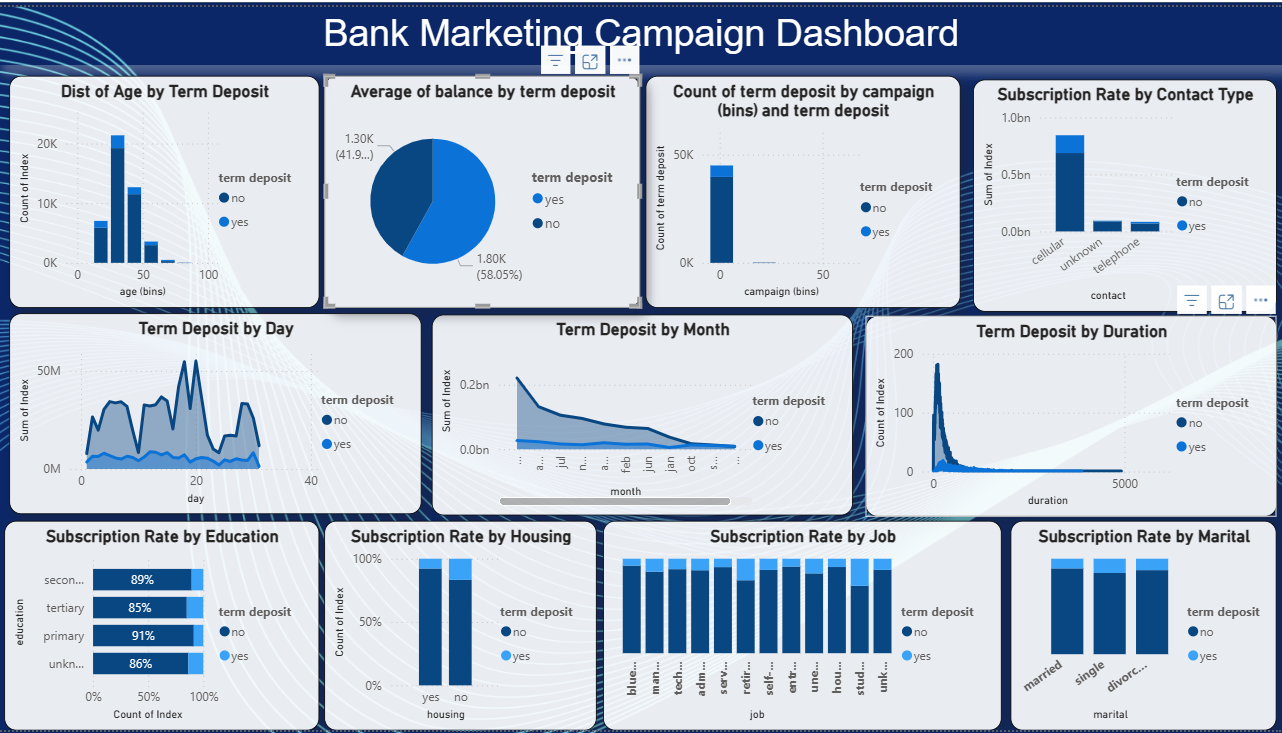

The page's visual inventory and layout, read from the dashboard file:
{"tool":"powerbi","page":{"name":"Page 1","canvas":[1280,720],"ordinal":0},"visuals":[{"type":"textbox","box":[0,0,1280.3,57.5],"z":0},{"type":"columnChart","title":"Dist of Age by Term Deposit","fields":{"Y":["CountNonNull(Bank Marketing.Index)"],"Category":["Bank Marketing.age (bins)"],"Series":["Bank Marketing.term deposit"]},"box":[11.2,68.4,308.6,231.4],"z":1000},{"type":"pieChart","fields":{"Category":["Bank Marketing.term deposit"],"Y":["Avg(Bank Marketing.balance)"]},"box":[324.7,68.4,314.8,231.4],"z":2000},{"type":"columnChart","fields":{"Category":["Bank Marketing.campaign (bins)"],"Y":["CountNonNull(Bank Marketing.term deposit)"],"Series":["Bank Marketing.term deposit"]},"box":[644.5,68.4,313.5,231.4],"z":3000},{"type":"columnChart","title":"Subscription Rate by Contact Type","fields":{"Series":["Bank Marketing.term deposit"],"Category":["Bank Marketing.contact"],"Y":["Sum(Bank Marketing.Index)"]},"box":[970.5,72.2,302.3,231.4],"z":4000},{"type":"areaChart","title":"Term Deposit by Day","fields":{"Category":["Bank Marketing.day"],"Y":["Sum(Bank Marketing.Index)"],"Series":["Bank Marketing.term deposit"]},"box":[11.2,304.8,410.6,200.3],"z":5000},{"type":"areaChart","title":"Term Deposit by Month","fields":{"Y":["Sum(Bank Marketing.Index)"],"Series":["Bank Marketing.term deposit"],"Category":["Bank Marketing.month"]},"box":[431.7,306.1,419.3,200.3],"z":6000},{"type":"areaChart","title":"Term Deposit by Duration","fields":{"Y":["CountNonNull(Bank Marketing.Index)"],"Series":["Bank Marketing.term deposit"],"Category":["Bank Marketing.duration"]},"box":[863.5,307.3,409.3,200.3],"z":7000},{"type":"hundredPercentStackedBarChart","title":"Subscription Rate by Education","fields":{"Category":["Bank Marketing.education"],"Series":["Bank Marketing.term deposit"],"Y":["CountNonNull(Bank Marketing.Index)"]},"box":[6.2,511,313.5,209],"z":8000},{"type":"hundredPercentStackedColumnChart","title":"Subscription Rate by Housing","fields":{"Category":["Bank Marketing.housing"],"Series":["Bank Marketing.term deposit"],"Y":["CountNonNull(Bank Marketing.Index)"]},"box":[324.7,511,271.2,209],"z":9000},{"type":"hundredPercentStackedColumnChart","title":"Subscription Rate by Job","fields":{"Series":["Bank Marketing.term deposit"],"Y":["CountNonNull(Bank Marketing.Index)"],"Category":["Bank Marketing.job"]},"box":[602.2,511,396.9,209],"z":10000},{"type":"hundredPercentStackedColumnChart","title":"Subscription Rate by Marital","fields":{"Series":["Bank Marketing.term deposit"],"Y":["CountNonNull(Bank Marketing.Index)"],"Category":["Bank Marketing.marital"]},"box":[1007.8,511,265,209],"z":11000}]}

Visuals, with their boxes in screenshot pixels (x1, y1, x2, y2), scaled from the page's 1280x720 canvas onto the 1282x733 screenshot:
textbox: [left=0, top=0, right=1281, bottom=59]
"Dist of Age by Term Deposit" columnChart: [left=11, top=70, right=320, bottom=305]
pieChart - Bank Marketing.term deposit x Avg(Bank Marketing.balance): [left=325, top=70, right=640, bottom=305]
columnChart - Bank Marketing.campaign (bins) x CountNonNull(Bank Marketing.term deposit): [left=646, top=70, right=959, bottom=305]
"Subscription Rate by Contact Type" columnChart: [left=972, top=74, right=1275, bottom=309]
"Term Deposit by Day" areaChart: [left=11, top=310, right=422, bottom=514]
"Term Deposit by Month" areaChart: [left=432, top=312, right=852, bottom=516]
"Term Deposit by Duration" areaChart: [left=865, top=313, right=1275, bottom=517]
"Subscription Rate by Education" hundredPercentStackedBarChart: [left=6, top=520, right=320, bottom=732]
"Subscription Rate by Housing" hundredPercentStackedColumnChart: [left=325, top=520, right=597, bottom=732]
"Subscription Rate by Job" hundredPercentStackedColumnChart: [left=603, top=520, right=1001, bottom=732]
"Subscription Rate by Marital" hundredPercentStackedColumnChart: [left=1009, top=520, right=1275, bottom=732]
